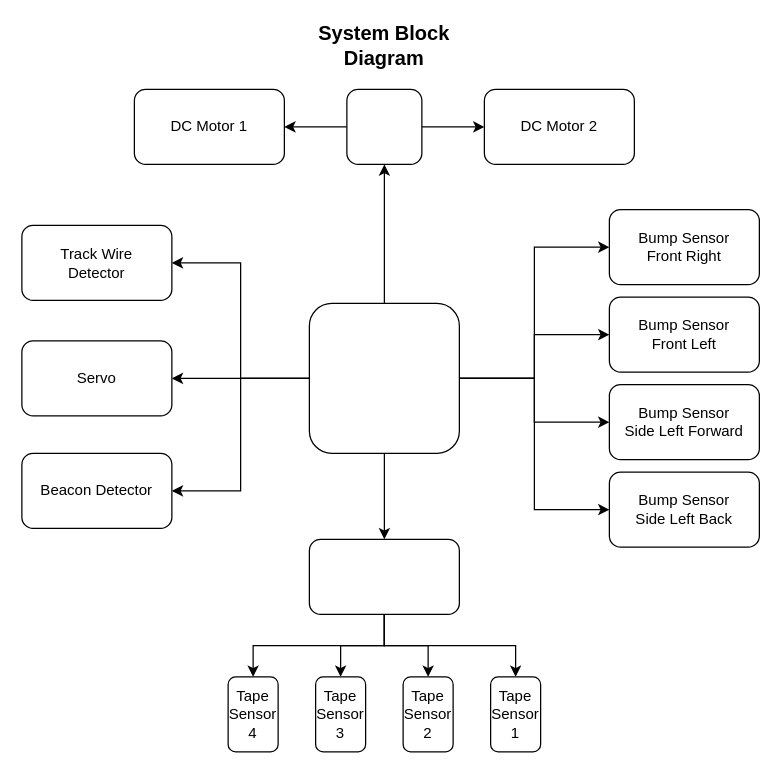
The diagram is 781 pixels wide and 774 high, and some of its shapes have lost their labels. The shapes that lost their labels are listed below. From the top down, each one's box as (x1, y1, x2, y2) in pixels, then its label:
(346, 88, 422, 164): H-Bridge
(308, 302, 459, 453): Uno 32 Stack
(308, 538, 459, 614): Tape Sensor Control Board
